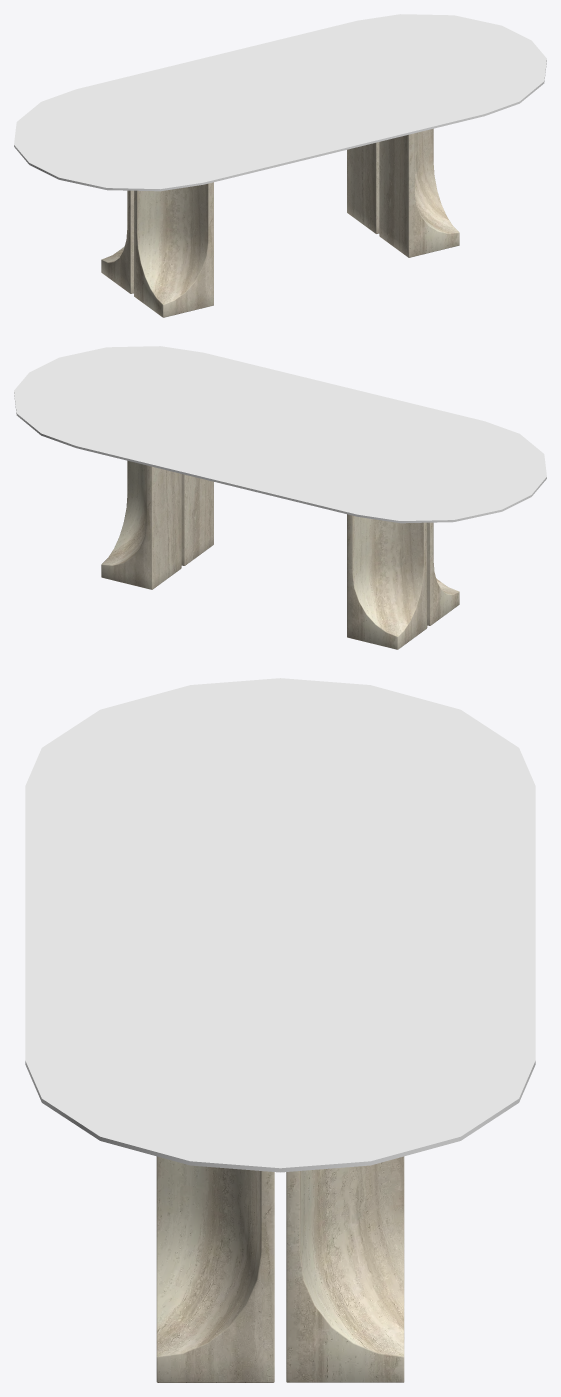
File: dining_table_oval.glb
The picture shows the model from 3 angles, top to bottom: view 1: azimuth 30°, elevation 25°; view 2: azimuth 150°, elevation 25°; view 3: azimuth 270°, elevation 25°; orthographic projection. The views are drawn at different scales.
Visible parts, largest first — view 1: Cube.008; view 2: Cube.008; view 3: Cube.008.
Boxes of the visible parts, x1,y1,x2,y2 form: Cube.008: [14, 14, 546, 317]; Cube.008: [14, 346, 546, 649]; Cube.008: [25, 678, 535, 1382].
Bounding box in the file's own units: 2.5 × 0.7499 × 1.1.
Materials: 3 (2 with a texture image).
